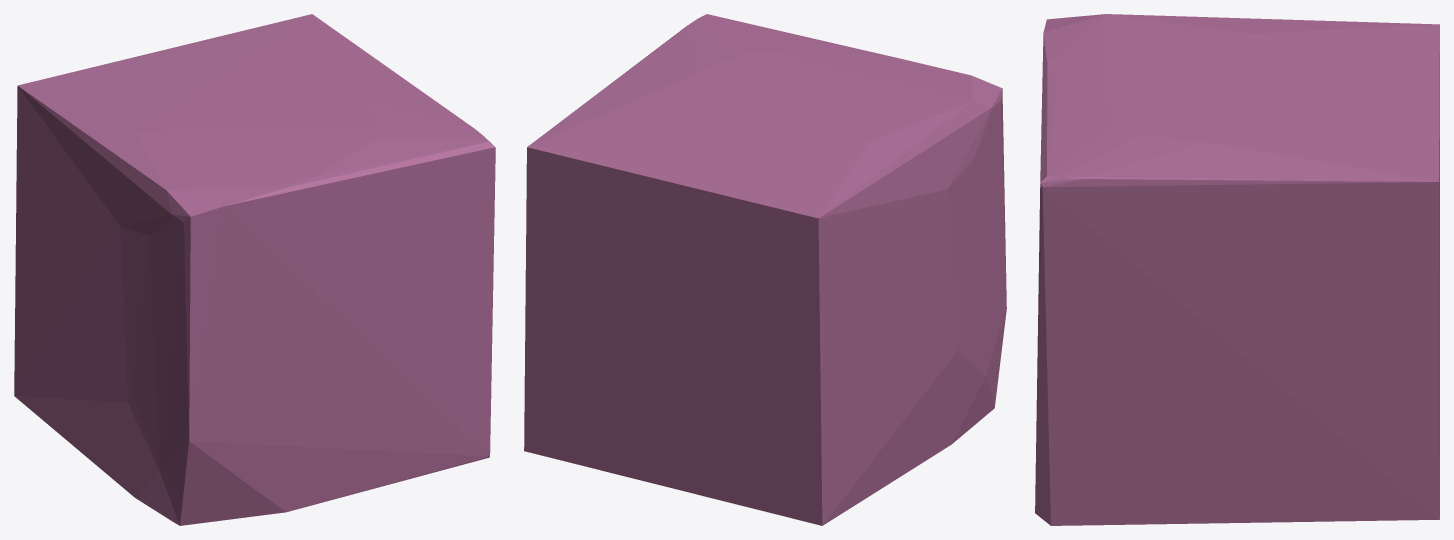
The model's file is sofa_soft_b01.glb.
3 views of the same model, side by side, from view 1: azimuth 30°, elevation 25°; view 2: azimuth 150°, elevation 25°; view 3: azimuth 270°, elevation 25° (orthographic). The views are drawn at different scales.
Parts seen in each view (by area): view 1: geometry_0; view 2: geometry_0; view 3: geometry_0.
Boxes of the visible parts, <box> form: geometry_0: <box>14,14,495,525</box>; geometry_0: <box>524,14,1006,525</box>; geometry_0: <box>1035,14,1439,525</box>.
Size of the model in its own units: 0.4645 by 0.4678 by 0.4766.
